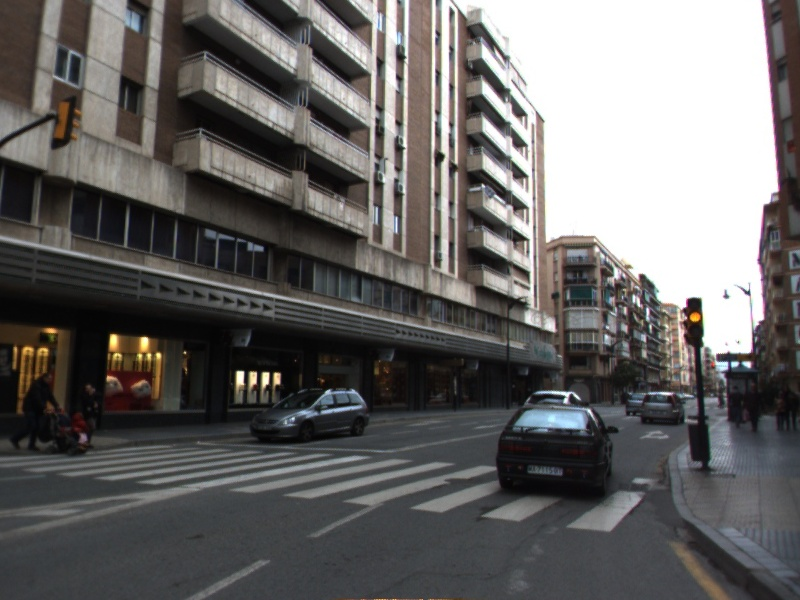STRAIGHT_RIGHT: (637, 427, 671, 442)
